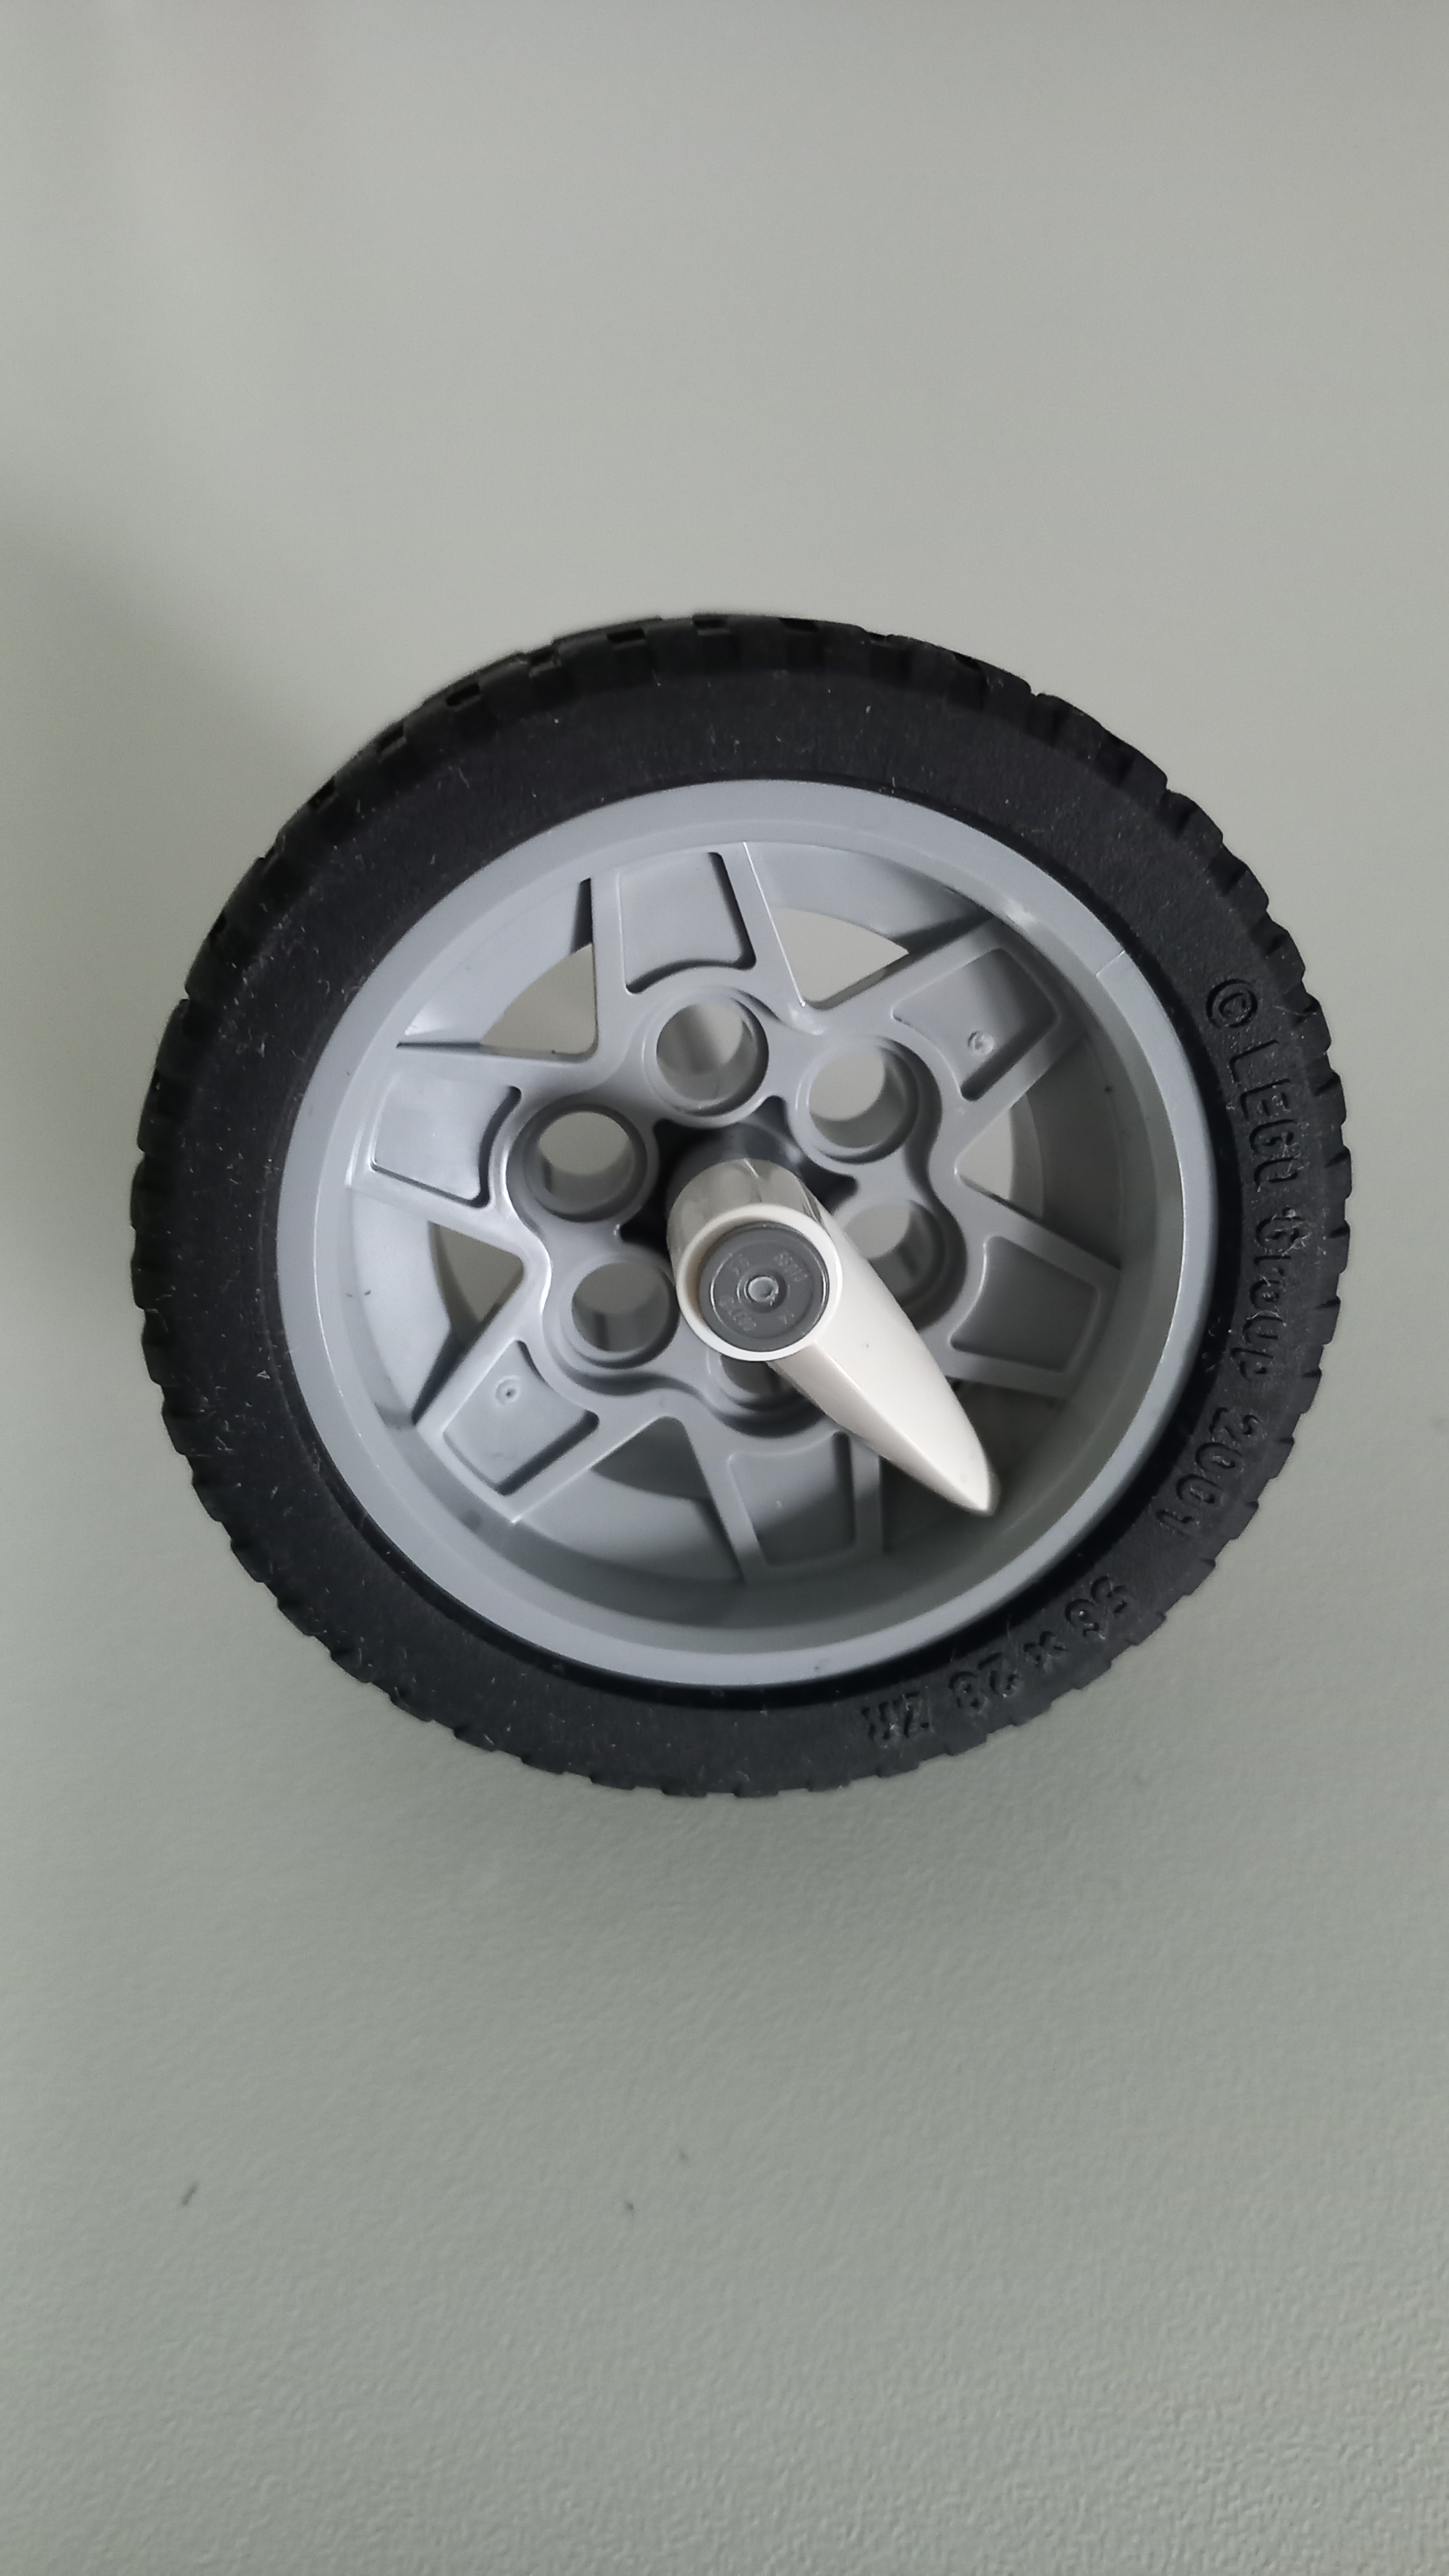Rad+Grau_lang+Kappe: (113, 587, 1380, 1835)
